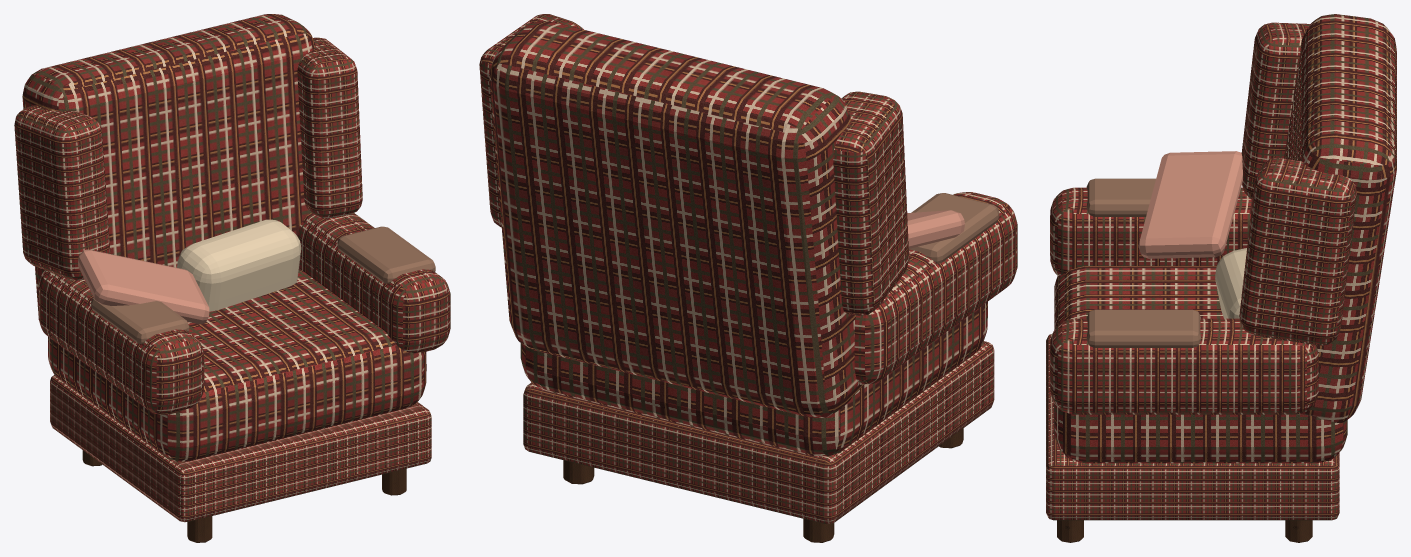
The model's file is cabin_armchair.glb.
3 renders of one model, left to right at view 1: azimuth 30°, elevation 25°; view 2: azimuth 150°, elevation 25°; view 3: azimuth 270°, elevation 25°, orthographic. The views are drawn at different scales.
Visible parts, largest first — view 1: back, seat, base, wing_L, arm_L, arm_R, wing_R, pillow, throw, armcap_R, armcap_L, foot_0 (+1 smaller); view 2: back, base, seat, wing_L, arm_L, armcap_L, wing_R, throw; view 3: back, seat, arm_R, base, wing_R, throw, arm_L, wing_L, armcap_R, armcap_L, pillow, foot_3 (+1 smaller).
Boxes of the visible parts, x1,y1,x2,y2 form: back: (22,14,315,315); seat: (48,269,426,461); base: (50,375,431,522); wing_L: (14,105,110,280); arm_L: (38,270,204,414); arm_R: (298,213,450,352); wing_R: (297,37,362,218); pillow: (177,219,301,311); throw: (78,249,209,324); armcap_R: (337,226,435,283); armcap_L: (91,297,189,343); foot_0: (187,516,212,542); back: (489,21,864,417); base: (523,341,994,523); seat: (520,302,987,456); wing_L: (833,91,909,315); arm_L: (854,192,1017,384); armcap_L: (909,193,999,263); wing_R: (479,14,583,227); throw: (907,210,964,248); back: (1284,14,1396,423); seat: (1054,266,1347,463); arm_R: (1050,318,1318,414); base: (1046,333,1339,520); wing_R: (1239,157,1356,345); throw: (1138,151,1242,258); arm_L: (1050,187,1252,275); wing_L: (1241,22,1309,199); armcap_R: (1086,309,1200,347); armcap_L: (1086,178,1155,216); pillow: (1215,248,1246,318); foot_3: (1285,520,1312,542).
Size of the model in its own units: 0.976 by 1.11 by 0.8603.
5 materials, 2 textured.
